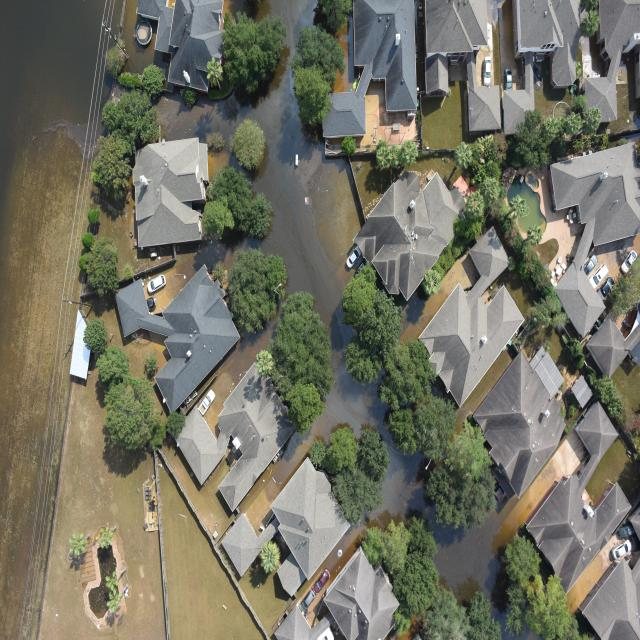fire: (159, 0, 384, 440), (1, 2, 124, 371), (434, 497, 520, 604), (368, 430, 428, 529)
